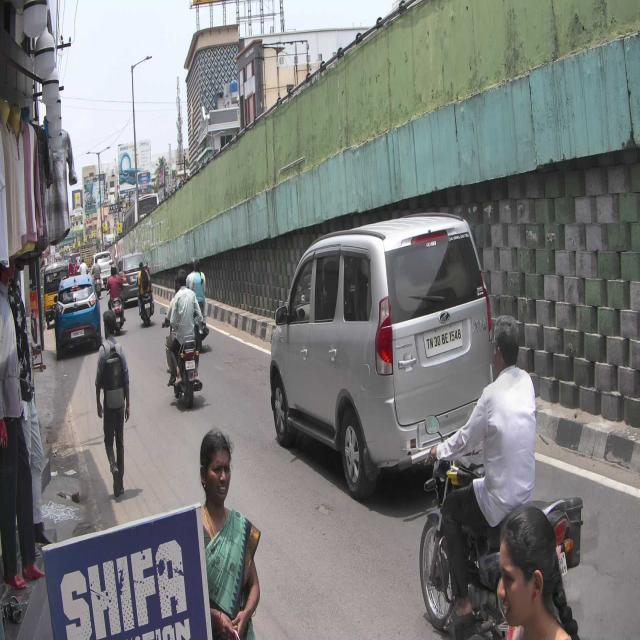single_rider: (420, 313, 583, 640)
